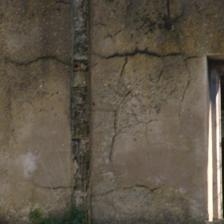Crack: (0, 0, 75, 87), (68, 0, 138, 78), (85, 34, 123, 105), (0, 8, 62, 33)
